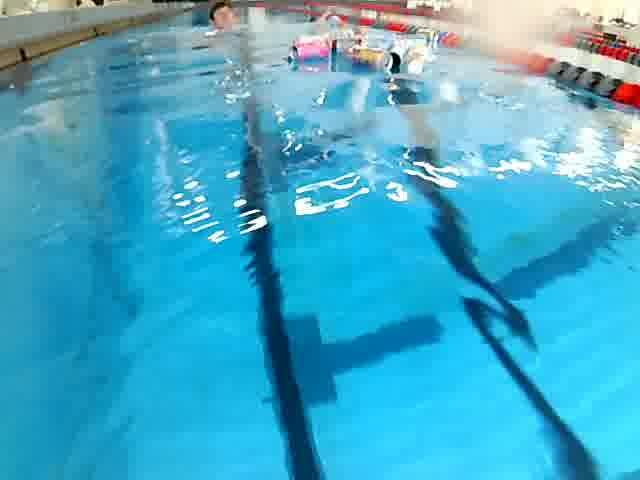Bottle: (407, 43, 425, 81)
Can: (282, 42, 335, 75), (342, 42, 383, 78)
